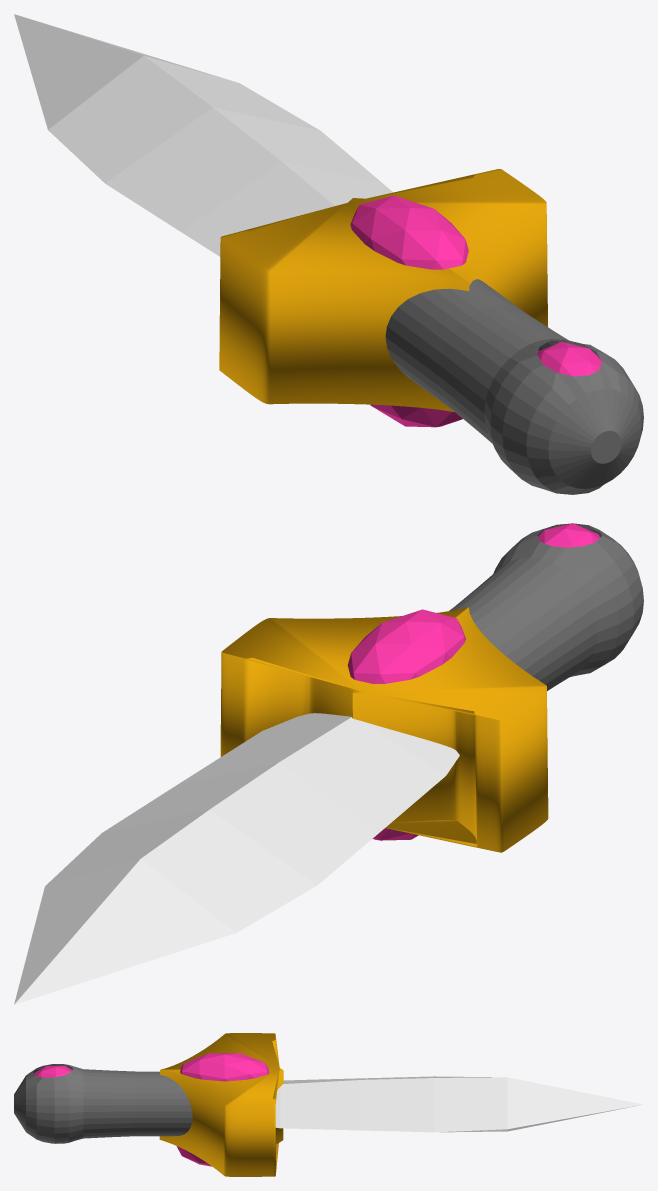
File: TinySword.fbx
3 views of the same model, one above another, from view 1: azimuth 30°, elevation 25°; view 2: azimuth 150°, elevation 25°; view 3: azimuth 270°, elevation 25° (orthographic). The views are drawn at different scales.
Visible parts, largest first — view 1: BezierCurve, Cube, Cylinder, Icosphere.001, Icosphere; view 2: Cube, BezierCurve, Cylinder, Icosphere.001, Icosphere; view 3: Cube, Cylinder, BezierCurve, Icosphere.001, Icosphere.
Boxes of the visible parts, left/top/right/bottom form: BezierCurve: left=219, top=169, right=547, bottom=411; Cube: left=14, top=14, right=393, bottom=256; Cylinder: left=385, top=279, right=643, bottom=494; Icosphere.001: left=350, top=195, right=468, bottom=427; Icosphere: left=537, top=341, right=601, bottom=376; Cube: left=14, top=713, right=459, bottom=1004; BezierCurve: left=220, top=607, right=548, bottom=852; Cylinder: left=449, top=523, right=643, bottom=690; Icosphere.001: left=347, top=609, right=465, bottom=840; Icosphere: left=538, top=523, right=600, bottom=547; Cube: left=275, top=1076, right=642, bottom=1132; Cylinder: left=14, top=1064, right=192, bottom=1143; BezierCurve: left=159, top=1033, right=283, bottom=1176; Icosphere.001: left=176, top=1053, right=269, bottom=1166; Icosphere: left=33, top=1066, right=71, bottom=1143.
Size of the model in its own units: 133 by 93.57 by 479.
